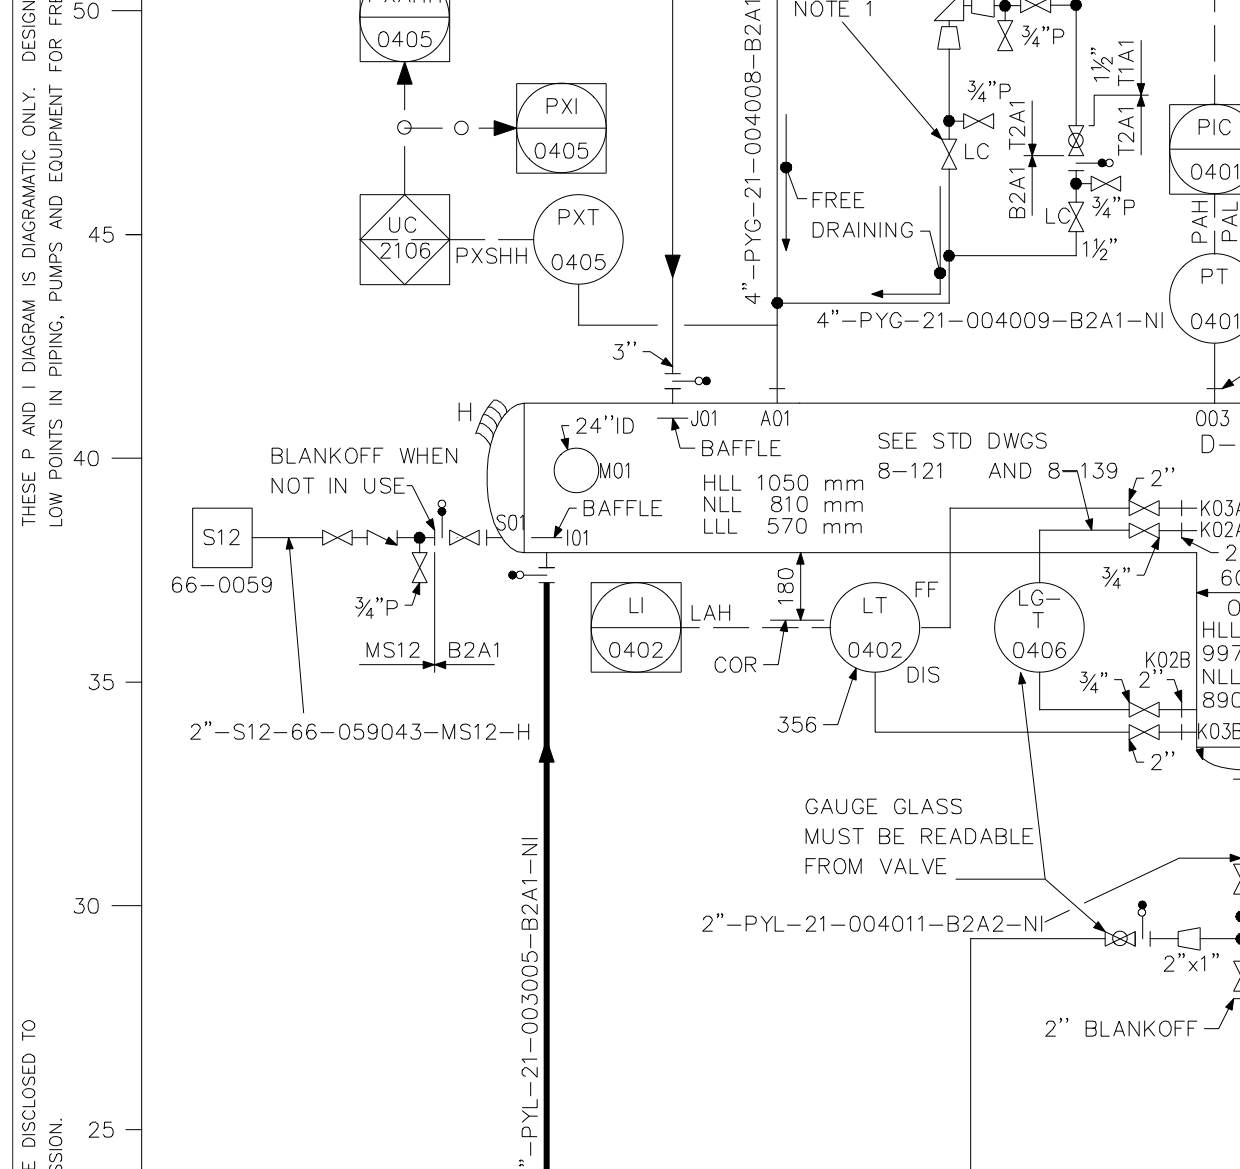Ball Valve: (1066, 116, 1090, 162), (1101, 926, 1139, 951)
Line Number: (183, 712, 535, 749), (693, 910, 1044, 937), (814, 307, 1166, 333), (737, 1, 766, 309), (517, 831, 541, 1169)
Spetacle Blind: (1129, 898, 1157, 960), (663, 366, 717, 396), (502, 561, 560, 588), (432, 497, 454, 550), (1065, 153, 1119, 174)
